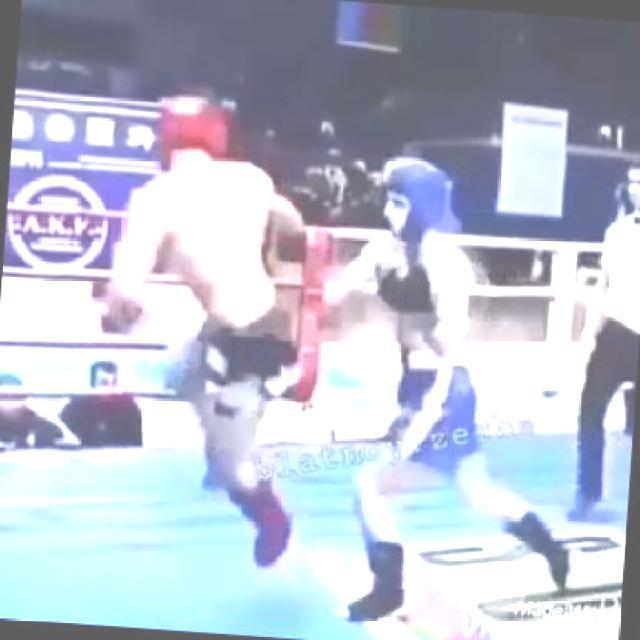fight: (81, 87, 504, 587)
